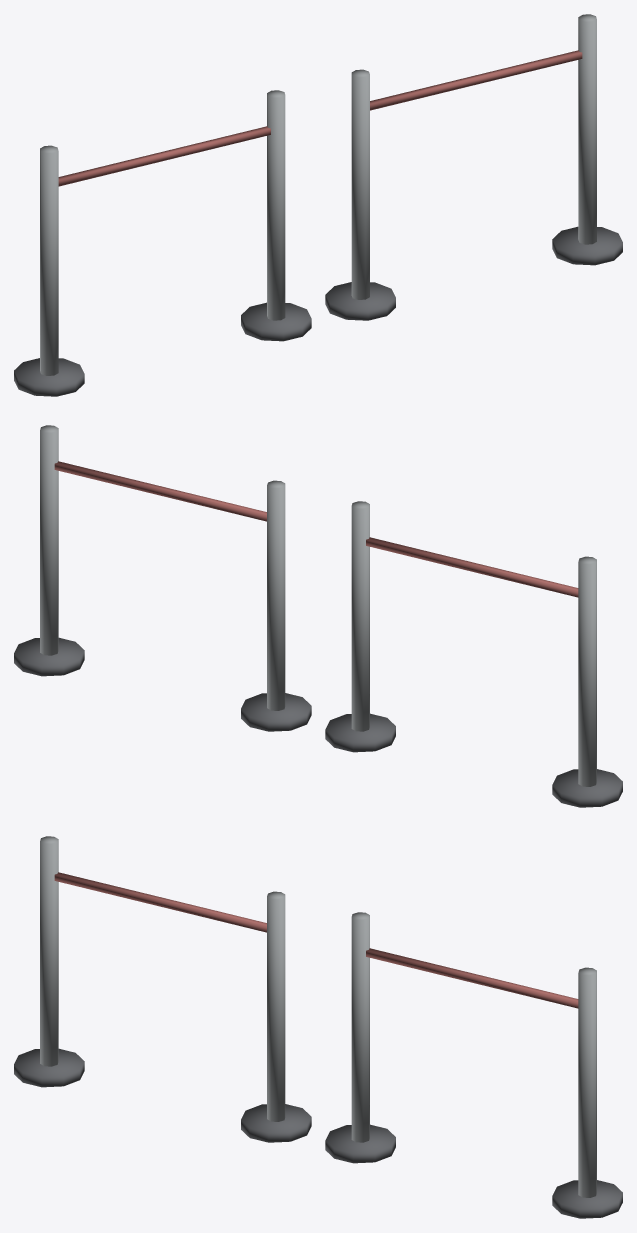
File: museum_rope_barrier__cluster.glb
3 views of the same model, one above another, from view 1: azimuth 30°, elevation 25°; view 2: azimuth 150°, elevation 25°; view 3: azimuth 330°, elevation 25° (orthographic).
Parts seen in each view (by area): view 1: world; view 2: world; view 3: world.
Boxes of the visible parts, <box> form: world: <box>14,14,622,396</box>; world: <box>14,425,622,807</box>; world: <box>14,836,622,1218</box>.
Bounding box in the file's own units: 2.54 × 0.94 × 0.2473.
